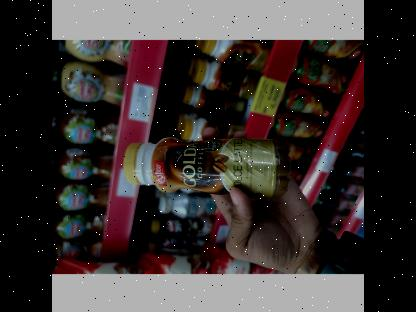Plastic Bottle: (121, 121, 296, 202)
